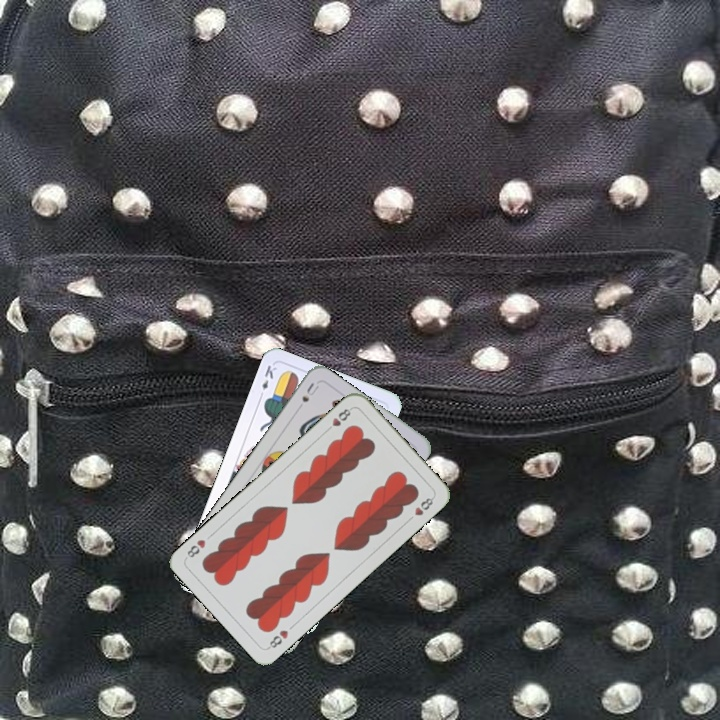EK: (255, 361, 279, 401)
H8: (321, 404, 355, 435), (263, 626, 291, 652)
SU: (298, 378, 322, 405)
